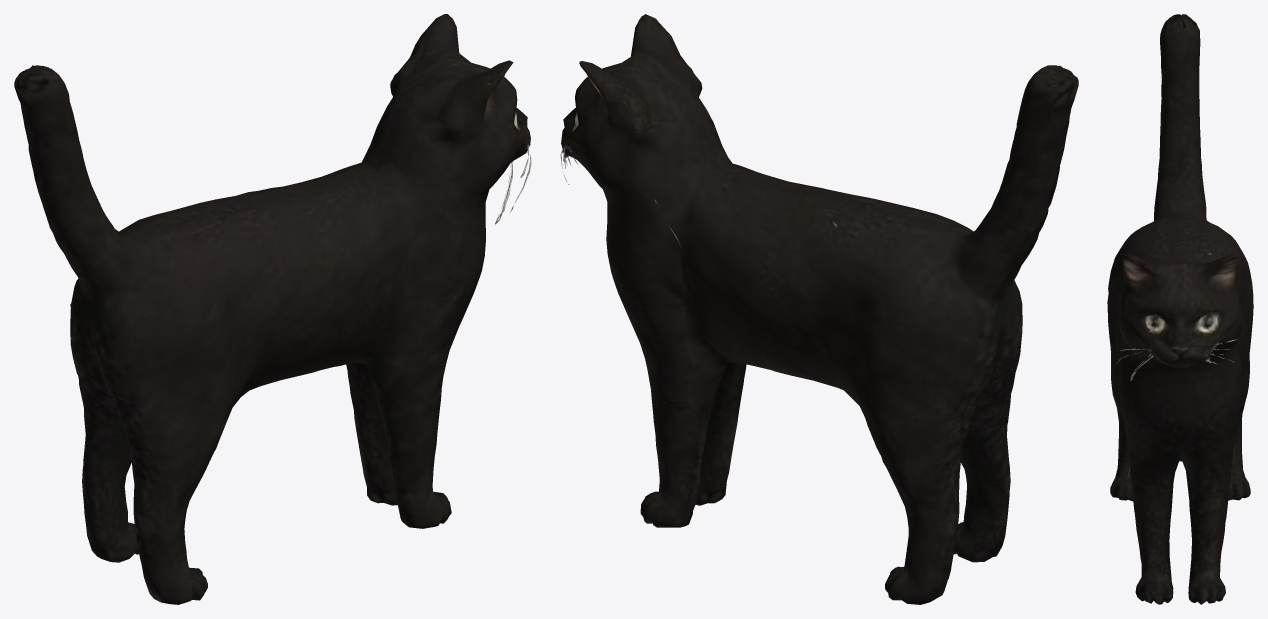
File: KONEROKU-lo.glb
The picture shows the model from 3 angles, left to right: view 1: azimuth 30°, elevation 25°; view 2: azimuth 150°, elevation 25°; view 3: azimuth 270°, elevation 25°; orthographic projection. The views are drawn at different scales.
Parts seen in each view (by area): view 1: tripo_node_9a890b8b-bfe1-42d8-8ac6-399e36ba68ab; view 2: tripo_node_9a890b8b-bfe1-42d8-8ac6-399e36ba68ab; view 3: tripo_node_9a890b8b-bfe1-42d8-8ac6-399e36ba68ab.
Boxes of the visible parts, x1,y1,x2,y2 form: tripo_node_9a890b8b-bfe1-42d8-8ac6-399e36ba68ab: [14, 14, 531, 604]; tripo_node_9a890b8b-bfe1-42d8-8ac6-399e36ba68ab: [560, 14, 1078, 604]; tripo_node_9a890b8b-bfe1-42d8-8ac6-399e36ba68ab: [1107, 14, 1253, 604].
Bounding box in the file's own units: 0.9926 × 0.9996 × 0.3036.
1 material, 1 textured.
